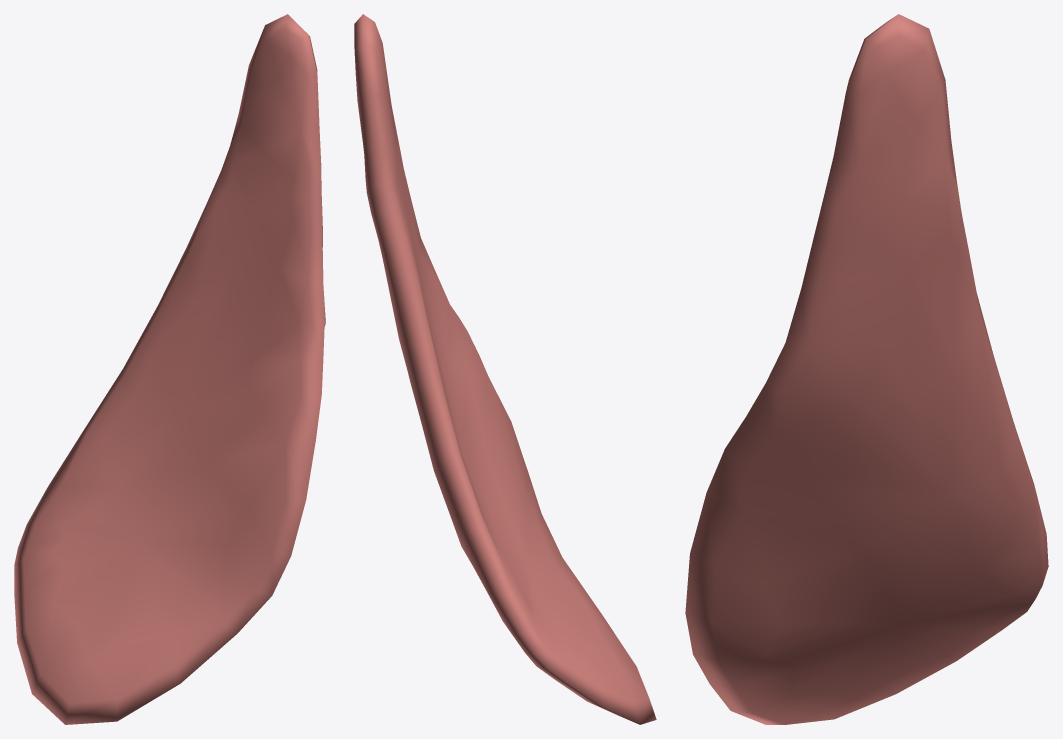
The picture shows the model from 3 angles, left to right: view 1: azimuth 30°, elevation 25°; view 2: azimuth 150°, elevation 25°; view 3: azimuth 270°, elevation 25°; orthographic projection. The views are drawn at different scales.
Parts seen in each view (by area): view 1: ZA_d6571cd059383e09; view 2: ZA_d6571cd059383e09; view 3: ZA_d6571cd059383e09.
Boxes of the visible parts, box(x1,y1,x2,y2) form: ZA_d6571cd059383e09: box(14, 14, 325, 724); ZA_d6571cd059383e09: box(354, 14, 656, 724); ZA_d6571cd059383e09: box(685, 14, 1048, 724).
Bounding box in the file's own units: 0.00516 × 0.0113 × 0.00425.
